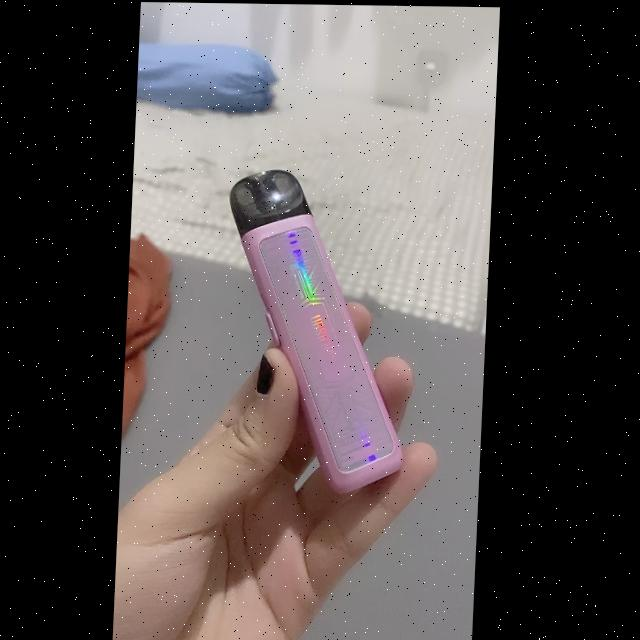vape: (218, 165, 417, 495)
